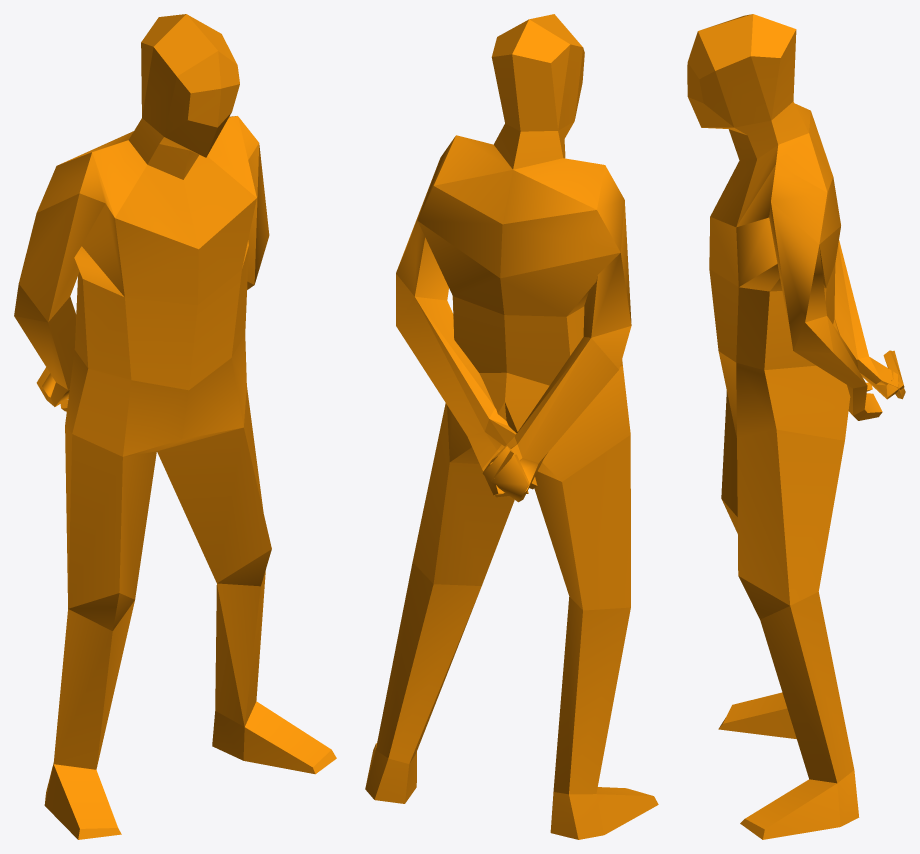
File: Human09.fbx
3 renders of one model, left to right at view 1: azimuth 30°, elevation 25°; view 2: azimuth 150°, elevation 25°; view 3: azimuth 270°, elevation 25°, orthographic. The views are drawn at different scales.
Parts seen in each view (by area): view 1: Human09; view 2: Human09; view 3: Human09.
Part boxes in pixels (x1,y1,x2,y2): Human09: (14,14,336,839); Human09: (365,14,658,839); Human09: (687,14,905,839).
Bounding box in the file's own units: 67.41 × 174 × 45.61.
